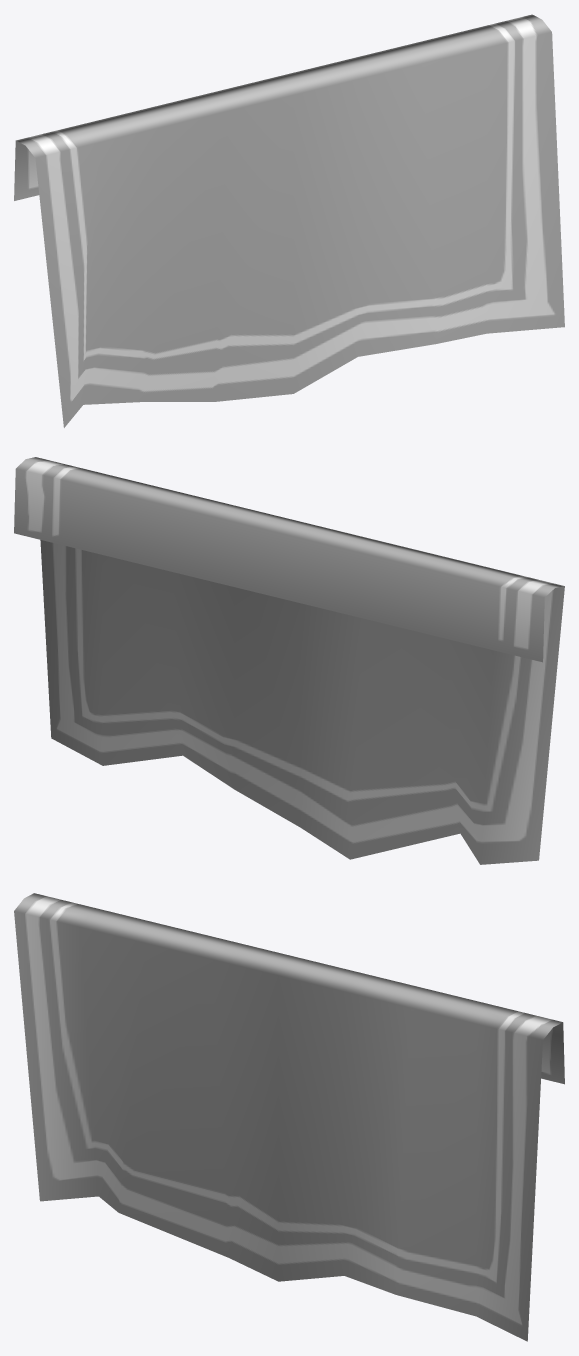
The model's file is BannerWall3.fbx.
3 renders of one model, top to bottom at view 1: azimuth 30°, elevation 25°; view 2: azimuth 150°, elevation 25°; view 3: azimuth 330°, elevation 25°, orthographic. The views are drawn at different scales.
Parts seen in each view (by area): view 1: BannerWall3; view 2: BannerWall3; view 3: BannerWall3.
Part boxes in pixels (box(x1,y1,x2,y2)): BannerWall3: box(14, 14, 564, 427); BannerWall3: box(14, 457, 564, 864); BannerWall3: box(14, 893, 564, 1341).
Bounding box in the file's own units: 1259 × 718 × 149.
